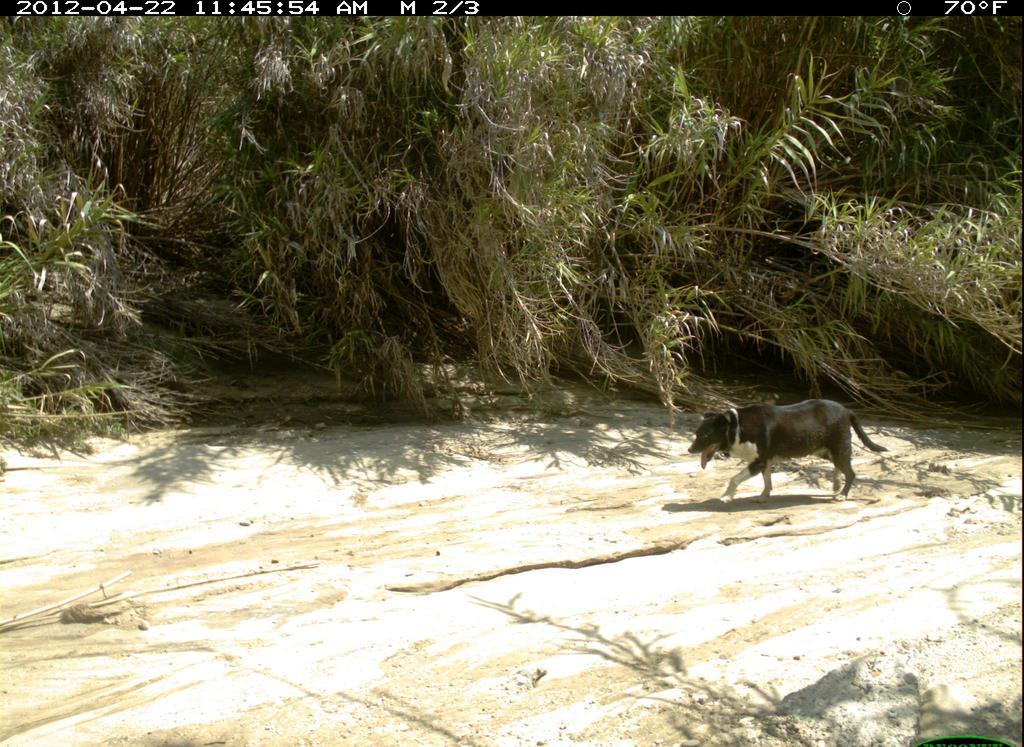dog: (684, 397, 895, 510)
